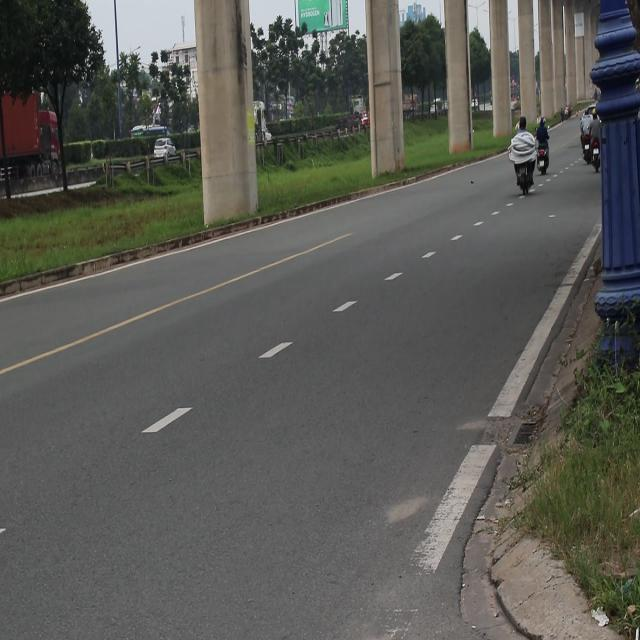car: (154, 138, 176, 158)
motorbike: (581, 109, 600, 170), (512, 159, 535, 204), (531, 136, 550, 180), (591, 130, 601, 180)
truck: (0, 70, 71, 198)
